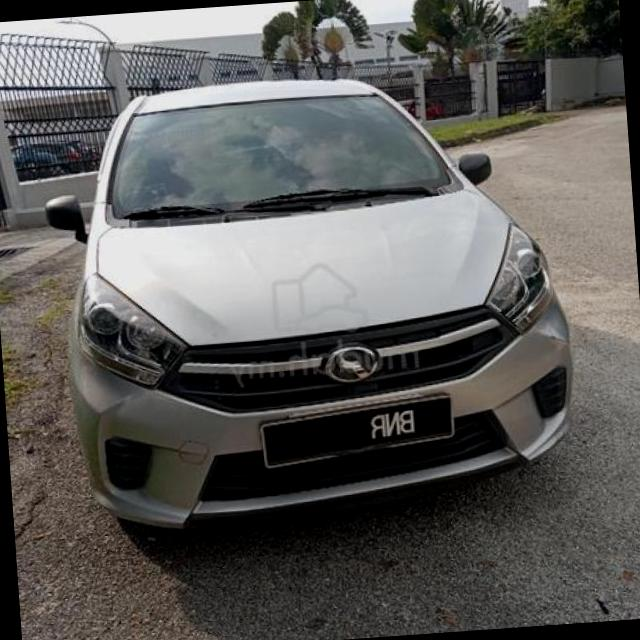PeroduaAxia: (37, 57, 584, 540)
